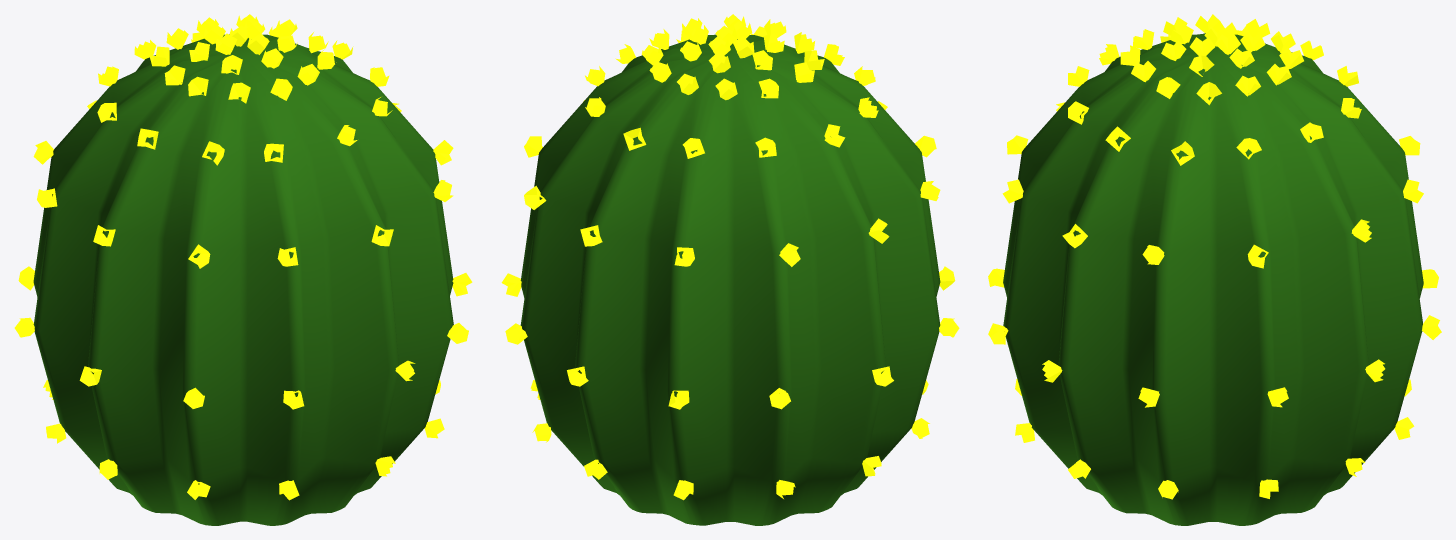
File: kaktus08.fbx
3 renders of one model, left to right at view 1: azimuth 30°, elevation 25°; view 2: azimuth 150°, elevation 25°; view 3: azimuth 270°, elevation 25°, orthographic.
Parts seen in each view (by area): view 1: kaktus08; view 2: kaktus08; view 3: kaktus08.
Boxes of the visible parts, x1,y1,x2,y2 form: kaktus08: (14,14,472,525); kaktus08: (501,14,959,525); kaktus08: (988,14,1441,525).
Size of the model in its own units: 0.5337 by 0.5373 by 0.5696.
